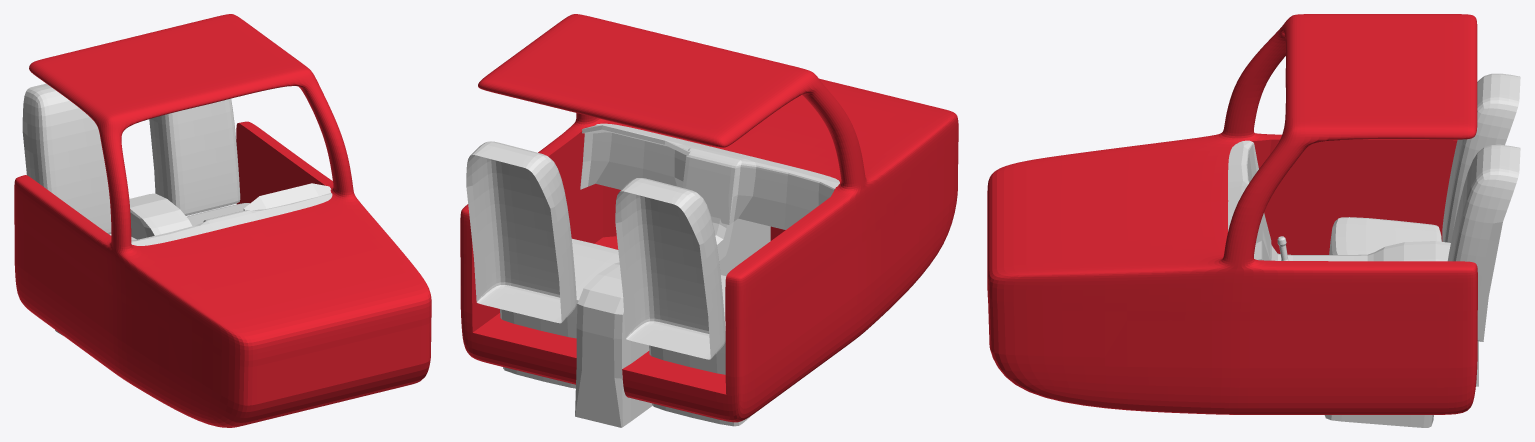
Rendered from car.fbx.
3 renders of one model, left to right at view 1: azimuth 30°, elevation 25°; view 2: azimuth 150°, elevation 25°; view 3: azimuth 270°, elevation 25°, orthographic. The views are drawn at different scales.
Visible parts, largest first — view 1: outer, Cube.002, Cube.003, Cube.004, Cube, Cube.005, seat.001; view 2: outer, Cube.002, Cube.003, Cube.004, Cube, seat.001, seat, Cube.005; view 3: outer, Cube.003, Cube.002, seat, Cube, Cube.004, seat.001.
Boxes of the visible parts, bbox=[...] form: outer: bbox=[14, 14, 431, 427]; Cube.002: bbox=[22, 83, 111, 234]; Cube.003: bbox=[149, 98, 240, 215]; Cube.004: bbox=[131, 193, 332, 245]; Cube: bbox=[129, 193, 192, 239]; Cube.005: bbox=[243, 183, 330, 210]; seat.001: bbox=[186, 203, 249, 225]; outer: bbox=[460, 14, 958, 422]; Cube.002: bbox=[615, 178, 725, 359]; Cube.003: bbox=[466, 141, 576, 323]; Cube.004: bbox=[580, 123, 839, 229]; Cube: bbox=[575, 216, 770, 427]; seat.001: bbox=[500, 238, 619, 388]; seat: bbox=[649, 275, 751, 426]; Cube.005: bbox=[582, 125, 690, 155]; outer: bbox=[987, 14, 1477, 414]; Cube.003: bbox=[1447, 144, 1520, 341]; Cube.002: bbox=[1442, 73, 1520, 242]; seat: bbox=[1329, 217, 1441, 254]; Cube: bbox=[1270, 241, 1478, 386]; Cube.004: bbox=[1228, 140, 1271, 260]; seat.001: bbox=[1324, 415, 1433, 427].
Size of the model in its own units: 251 by 263 by 415.
